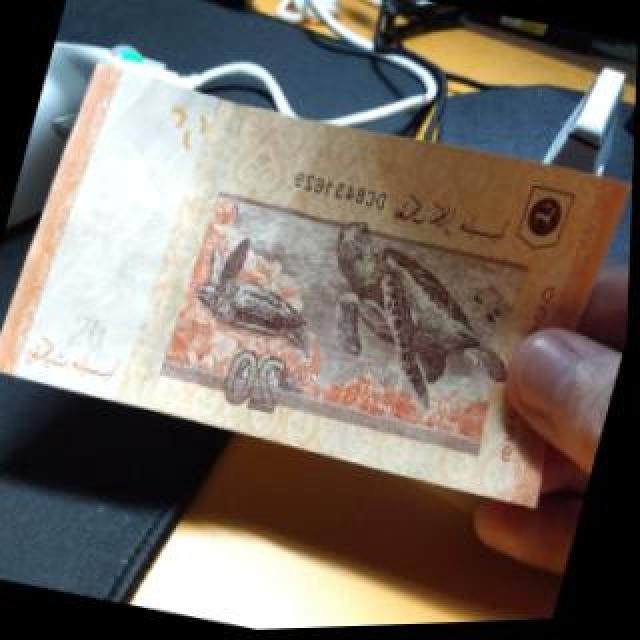20 Ringgit: (0, 32, 639, 543)
